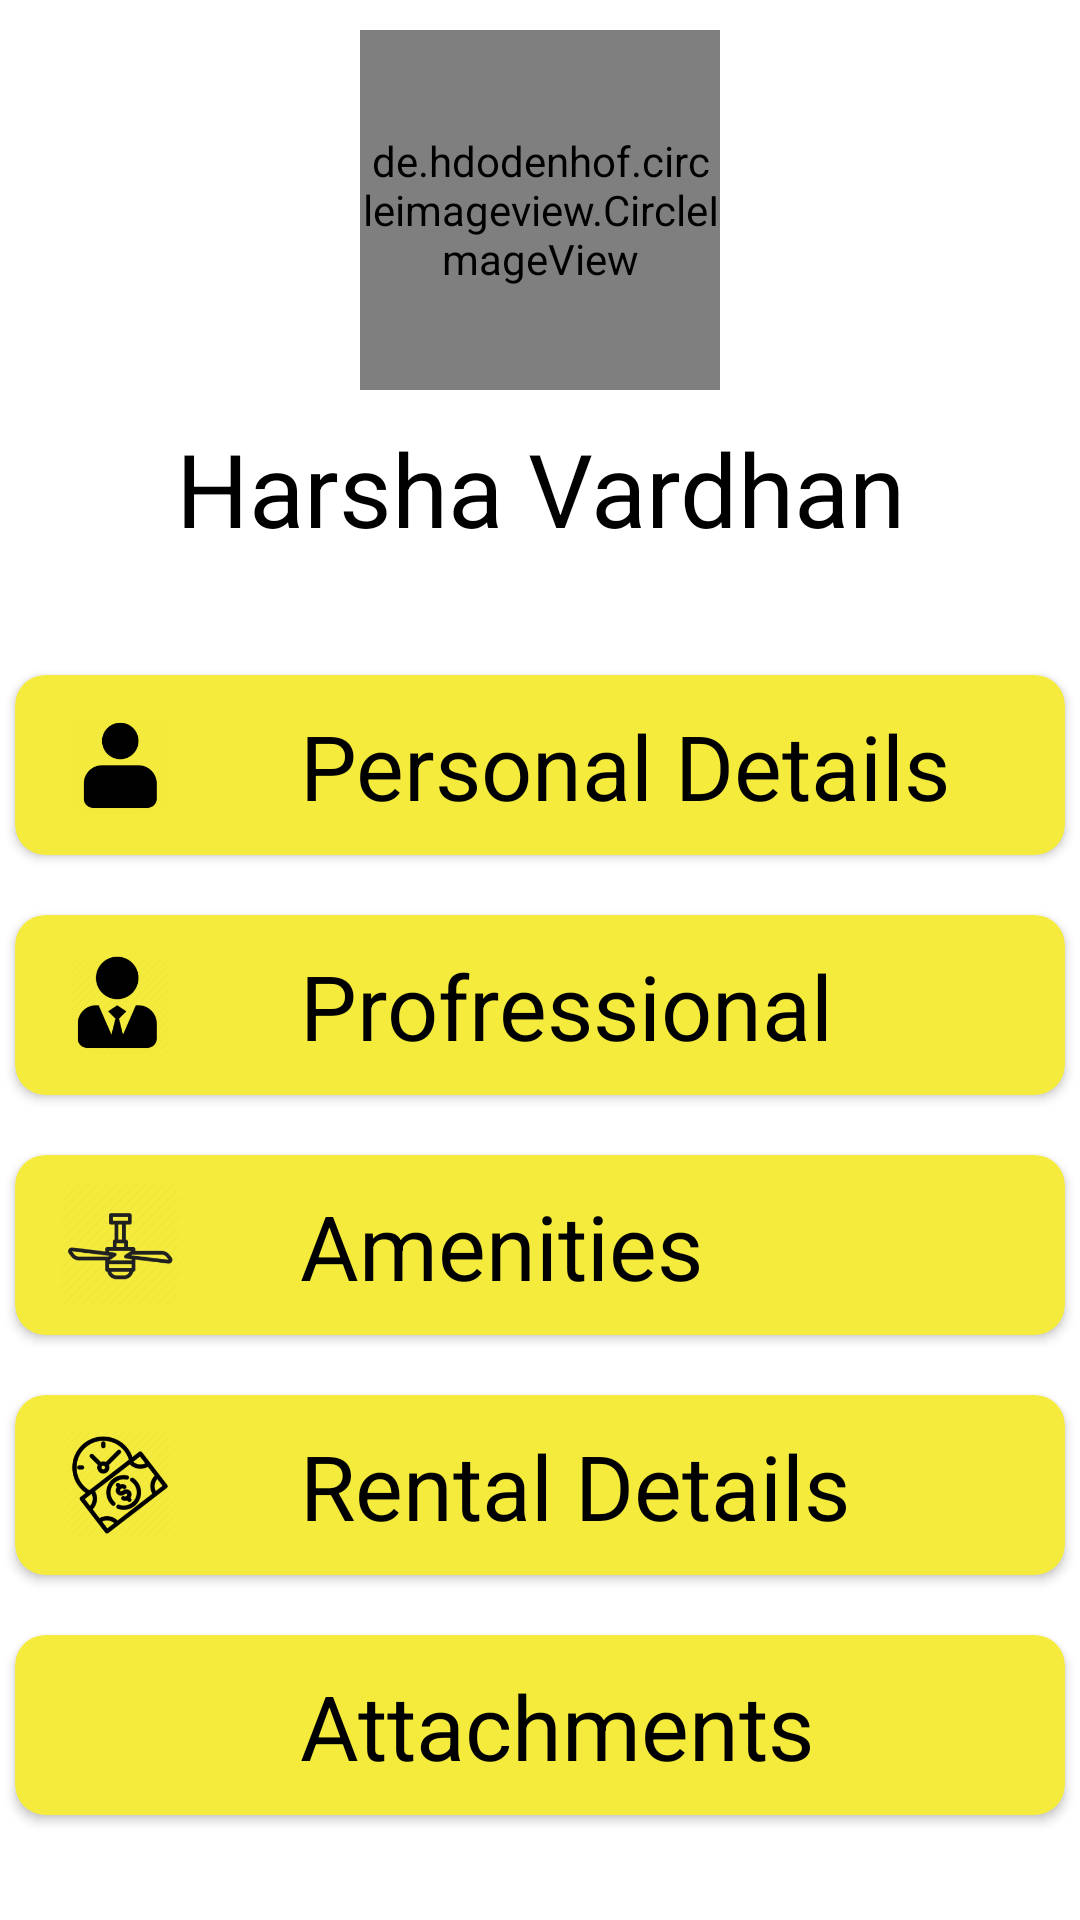

Screen size 1080px x 1920px. Icon name, then its box in pixels as box(x1, y1, x2, y2):
professional: box(15, 915, 225, 1095)
